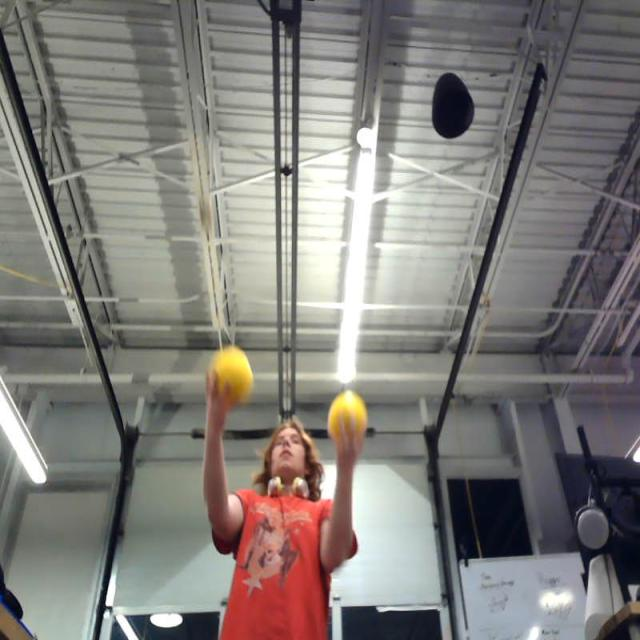Fuel: (212, 348, 252, 401), (329, 391, 367, 446)
